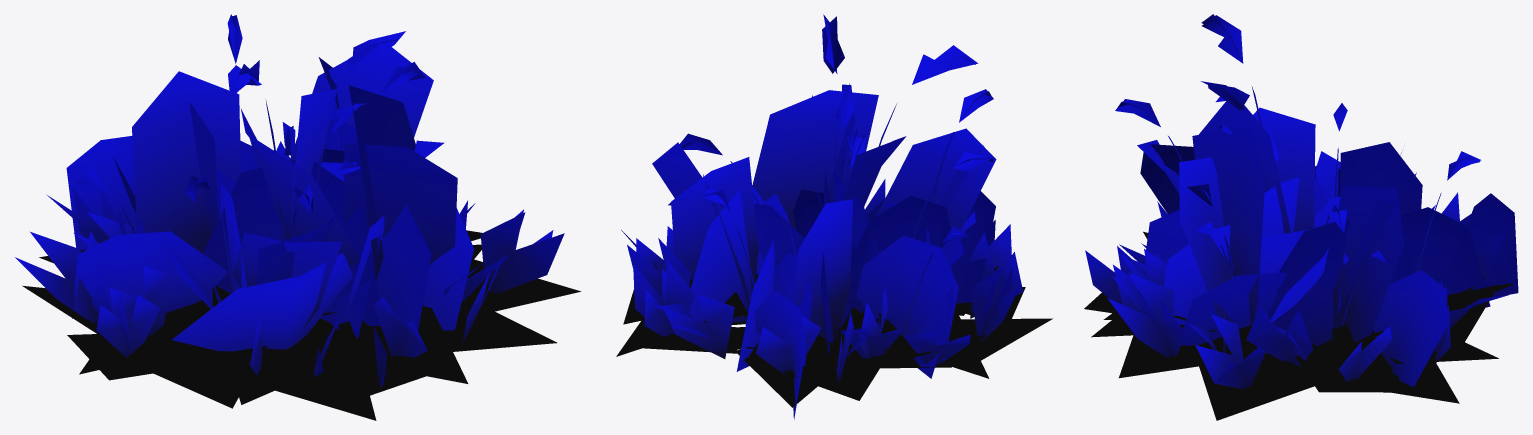
Rendered from SM_WildGrass_M_02.fbx.
3 renders of one model, left to right at view 1: azimuth 30°, elevation 25°; view 2: azimuth 150°, elevation 25°; view 3: azimuth 270°, elevation 25°, orthographic. The views are drawn at different scales.
Parts seen in each view (by area): view 1: SM_WildGrass_M_02; view 2: SM_WildGrass_M_02; view 3: SM_WildGrass_M_02.
Boxes of the visible parts, <box> form: SM_WildGrass_M_02: <box>15,14,581,420</box>; SM_WildGrass_M_02: <box>616,14,1052,419</box>; SM_WildGrass_M_02: <box>1084,14,1518,420</box>.
Bounding box in the file's own units: 144 × 136 × 97.25.
